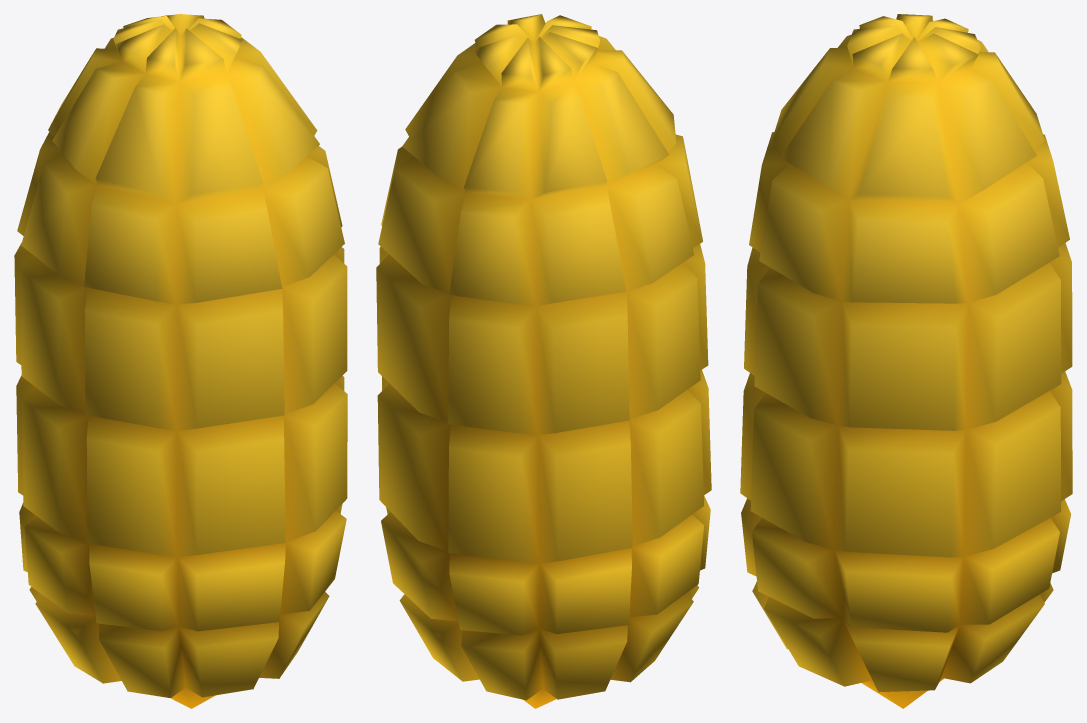
Rendered from Corn01.fbx.
3 views of the same model, side by side, from view 1: azimuth 30°, elevation 25°; view 2: azimuth 150°, elevation 25°; view 3: azimuth 270°, elevation 25° (orthographic).
Visible parts, largest first — view 1: Corn01; view 2: Corn01; view 3: Corn01.
Boxes of the visible parts, x1,y1,x2,y2 form: Corn01: (14,14,347,708); Corn01: (376,14,711,708); Corn01: (740,14,1072,708).
Size of the model in its own units: 6.69 by 15.7 by 6.95.
